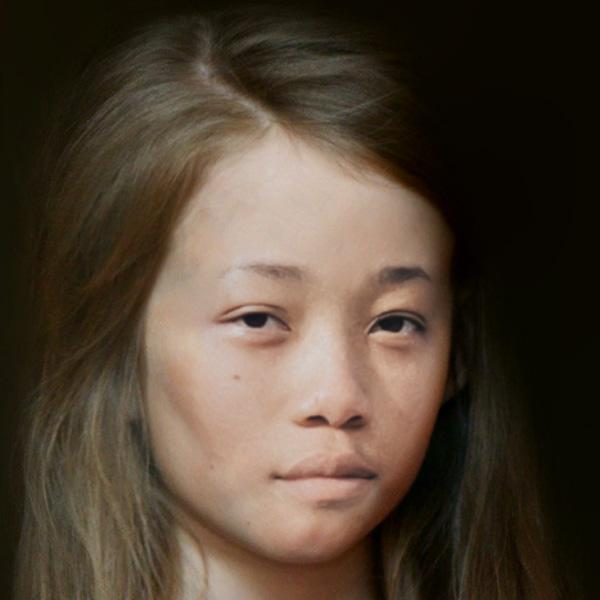Eyes: (209, 289, 299, 345), (358, 297, 432, 352)
